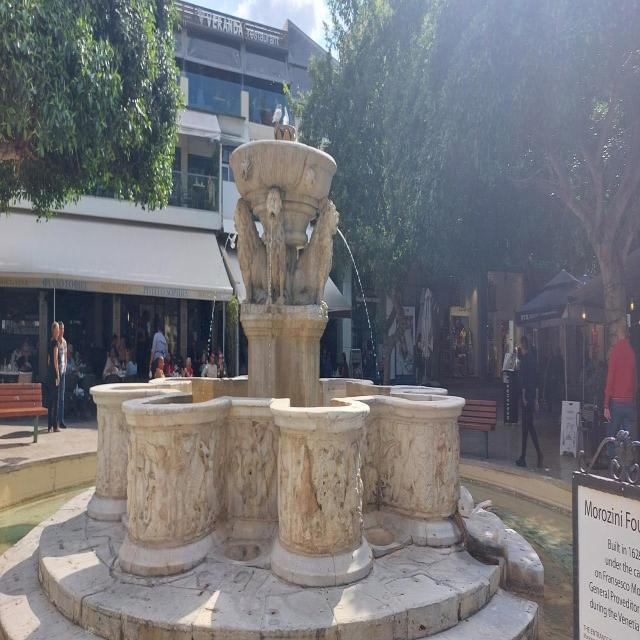Liontaria: (94, 105, 466, 592)
